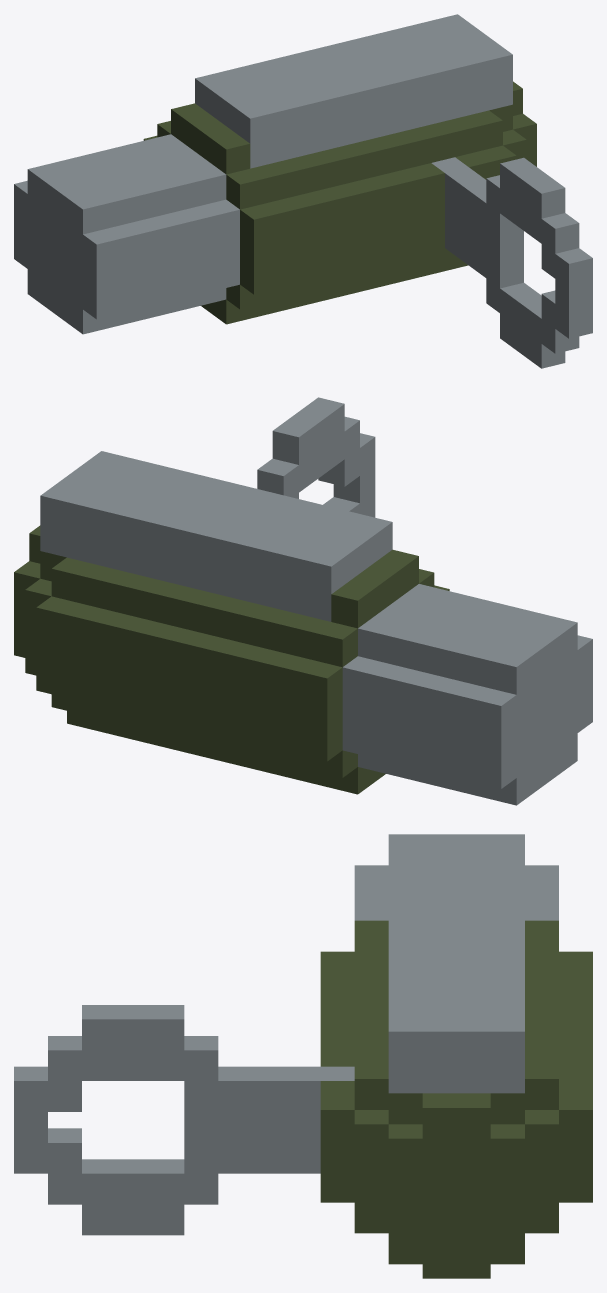
The model's file is delay_fuze.glb.
3 views of the same model, one above another, from view 1: azimuth 30°, elevation 25°; view 2: azimuth 150°, elevation 25°; view 3: azimuth 270°, elevation 25° (orthographic). The views are drawn at different scales.
Parts seen in each view (by area): view 1: delay_fuze:compound; view 2: delay_fuze:compound; view 3: delay_fuze:compound.
Boxes of the visible parts, x1,y1,x2,y2 form: delay_fuze:compound: (14,14,592,368); delay_fuze:compound: (14,397,592,805); delay_fuze:compound: (14,834,592,1278).
Size of the model in its own units: 0.038 by 0.016 by 0.034.
